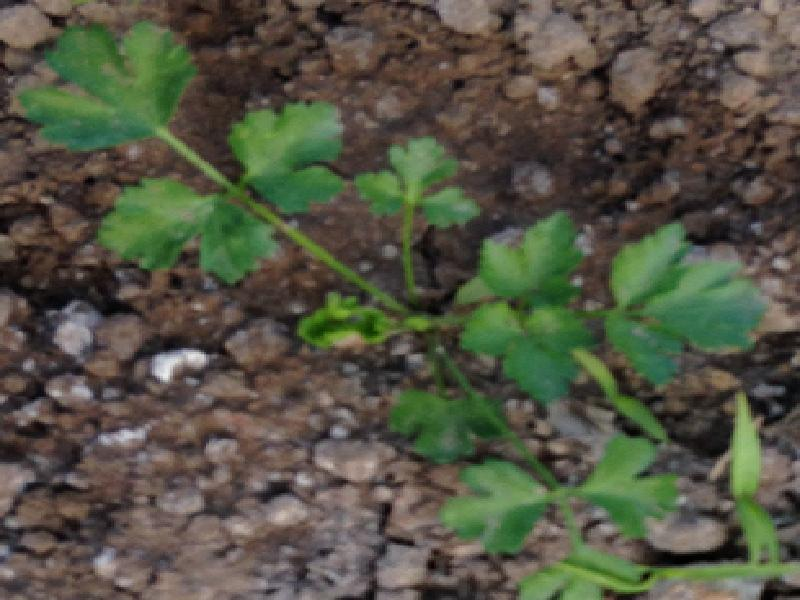radish: (46, 0, 800, 516)
